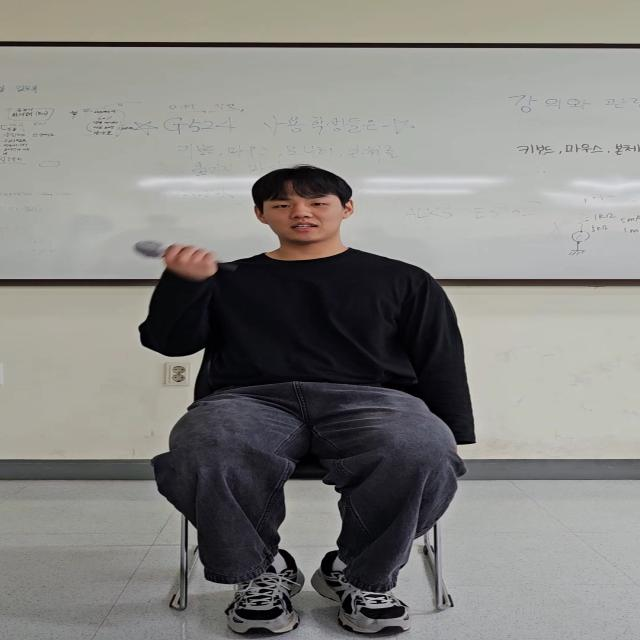curl: (101, 230, 260, 374)
